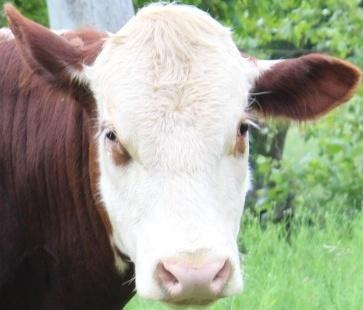muzzles: (135, 252, 248, 306)
